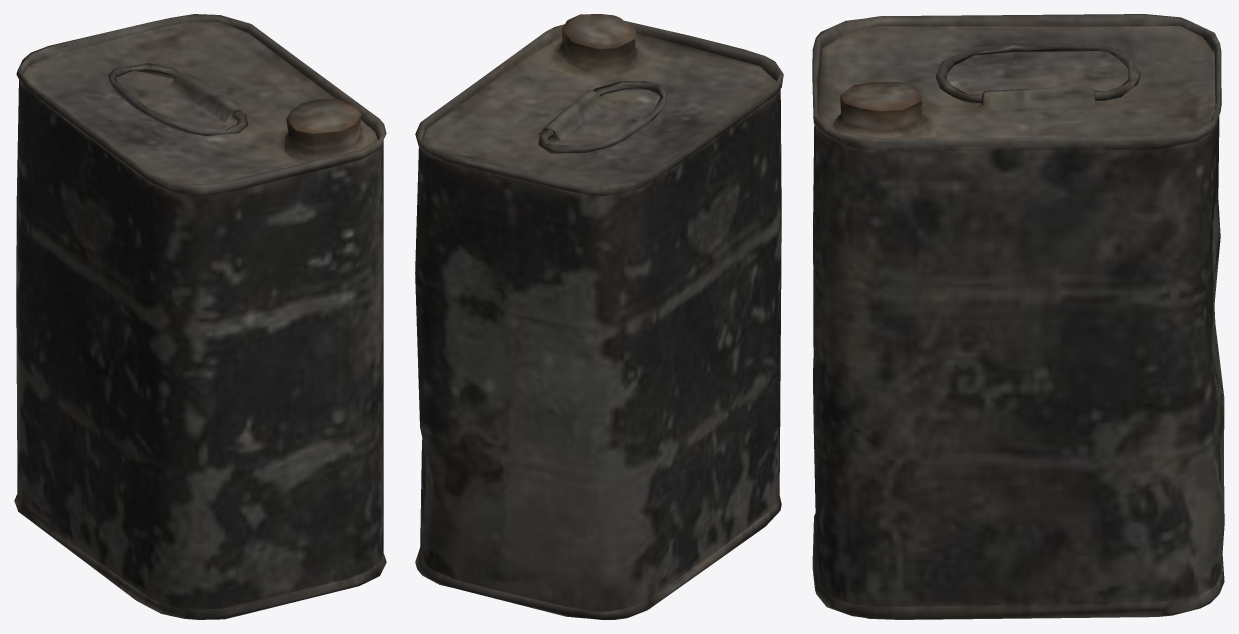
File: oil_tin.gltf
3 renders of one model, left to right at view 1: azimuth 30°, elevation 25°; view 2: azimuth 150°, elevation 25°; view 3: azimuth 270°, elevation 25°, orthographic. The views are drawn at different scales.
Parts seen in each view (by area): view 1: oil_tin, oil_tin_handle; view 2: oil_tin, oil_tin_handle; view 3: oil_tin, oil_tin_handle.
Boxes of the visible parts, x1,y1,x2,y2 form: oil_tin: (14, 14, 386, 619); oil_tin_handle: (108, 63, 247, 135); oil_tin: (415, 14, 783, 619); oil_tin_handle: (538, 81, 667, 153); oil_tin: (812, 14, 1224, 619); oil_tin_handle: (935, 43, 1140, 103).
Bounding box in the file's own units: 0.1144 × 0.2052 × 0.1531.
Materials: 1 (1 with a texture image).
